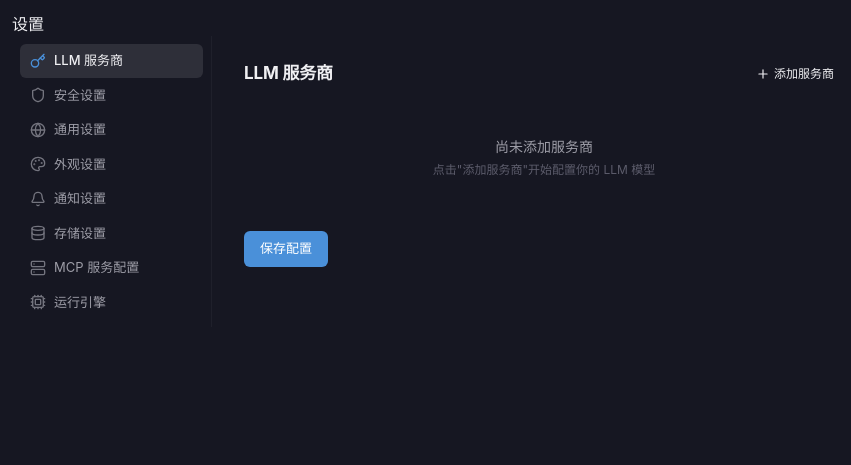
SettingsView — E2E 关键路径 › renders notification toggles
The image size is (851, 465).
Click the button "通知设置": [112, 199] box x1=20 y1=182 x2=203 y2=216
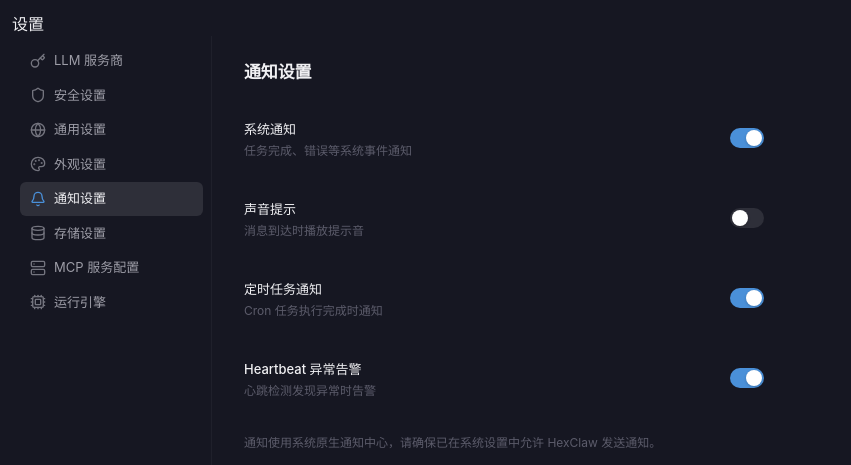
Expected: the text "系统通知" is shown, x1=244 y1=120 x2=296 y2=136
Expected: the text "声音提示" is shown, x1=244 y1=200 x2=296 y2=216
Expected: the text "定时任务通知" is shown, x1=244 y1=280 x2=322 y2=296
